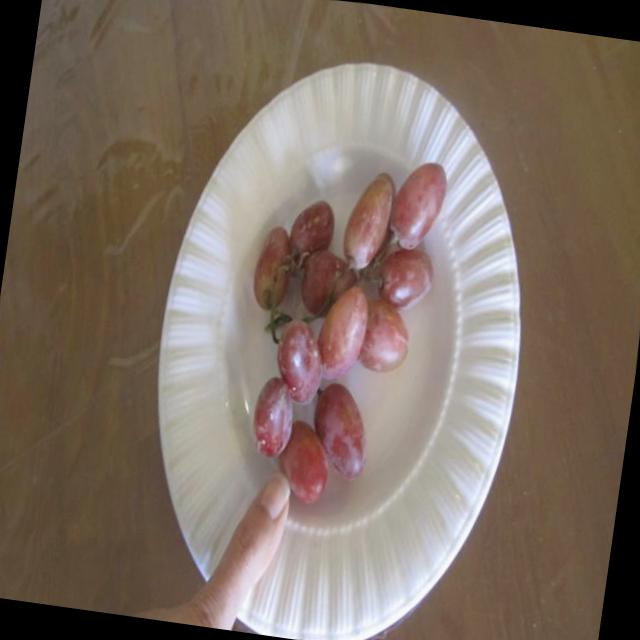Finger: (219, 472, 301, 608)
Grapes: (218, 134, 473, 500)
